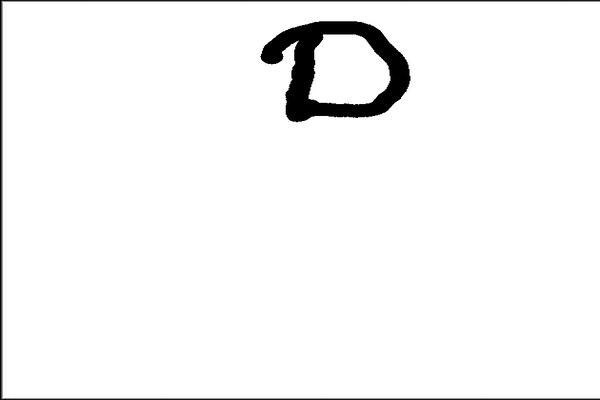D: (256, 15, 414, 127)
